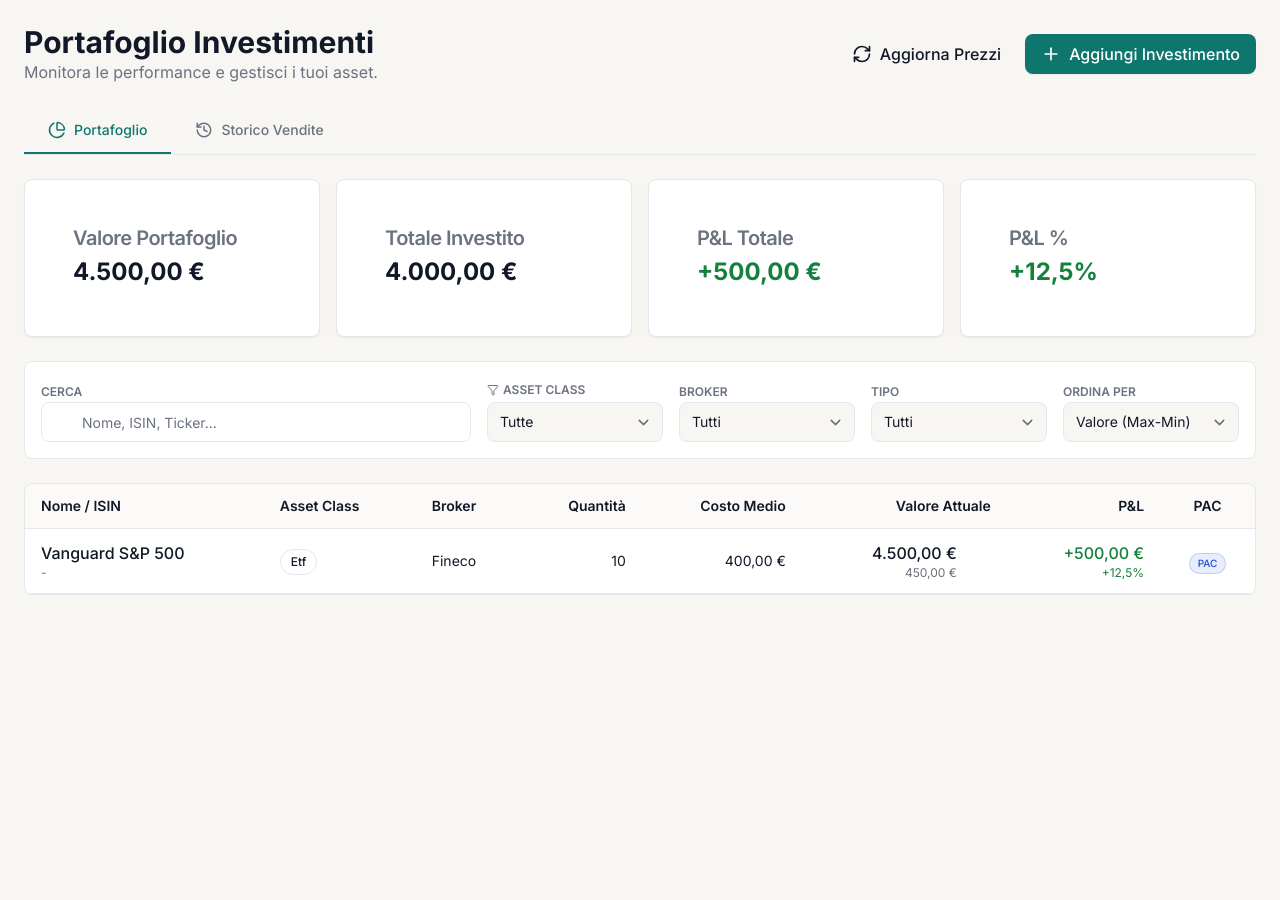
InvestimentiPage › should filter investments by name
This screenshot has width=1280, height=900.
Type "Non-existent" into the field with placeholder "Nome, ISIN, Ticker..." at (256, 422), box x1=41 y1=402 x2=471 y2=442
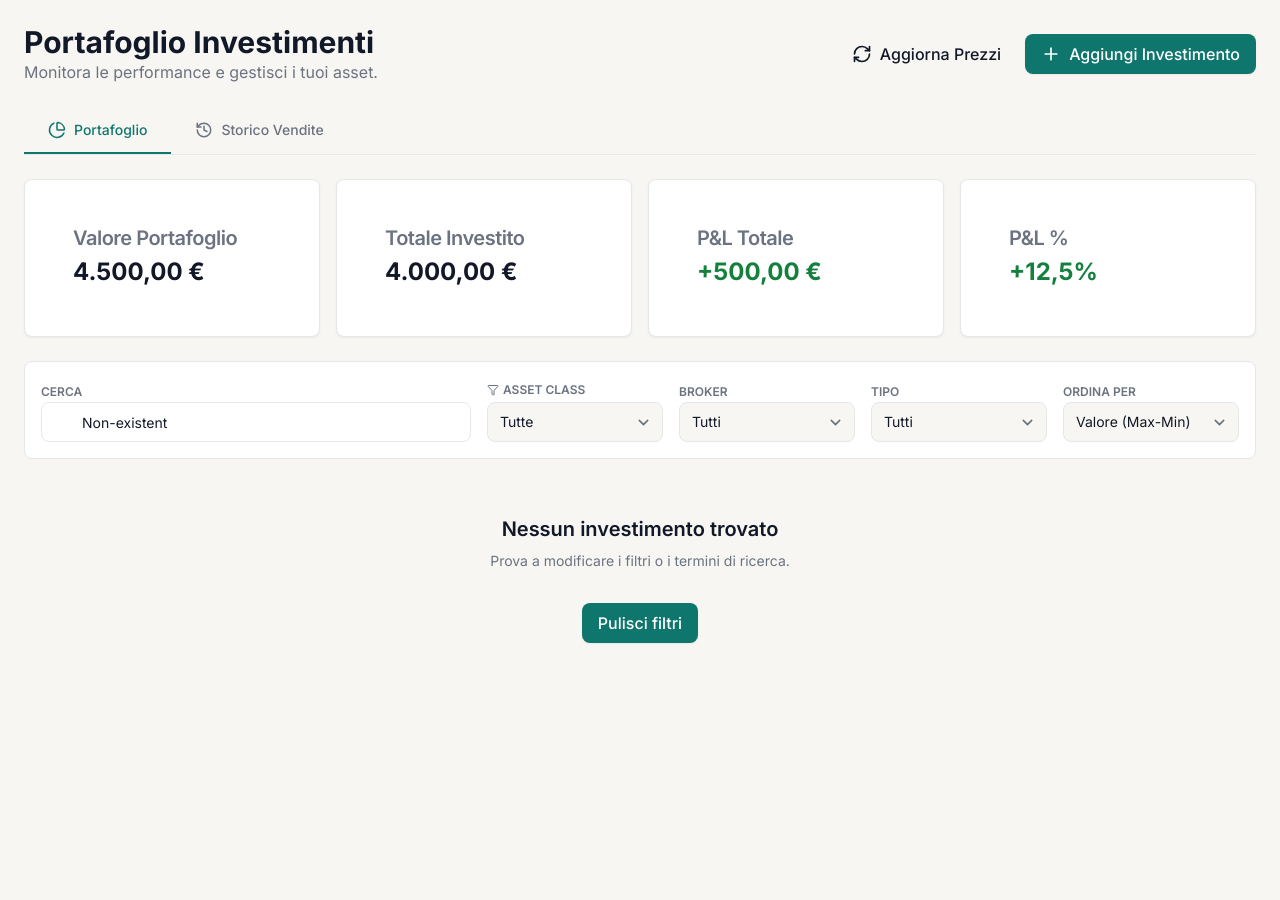
Expected: the text "Vanguard S&P 500" is gone
Expected: the heading "Nessun investimento trovato" is shown, x1=502 y1=515 x2=778 y2=543
